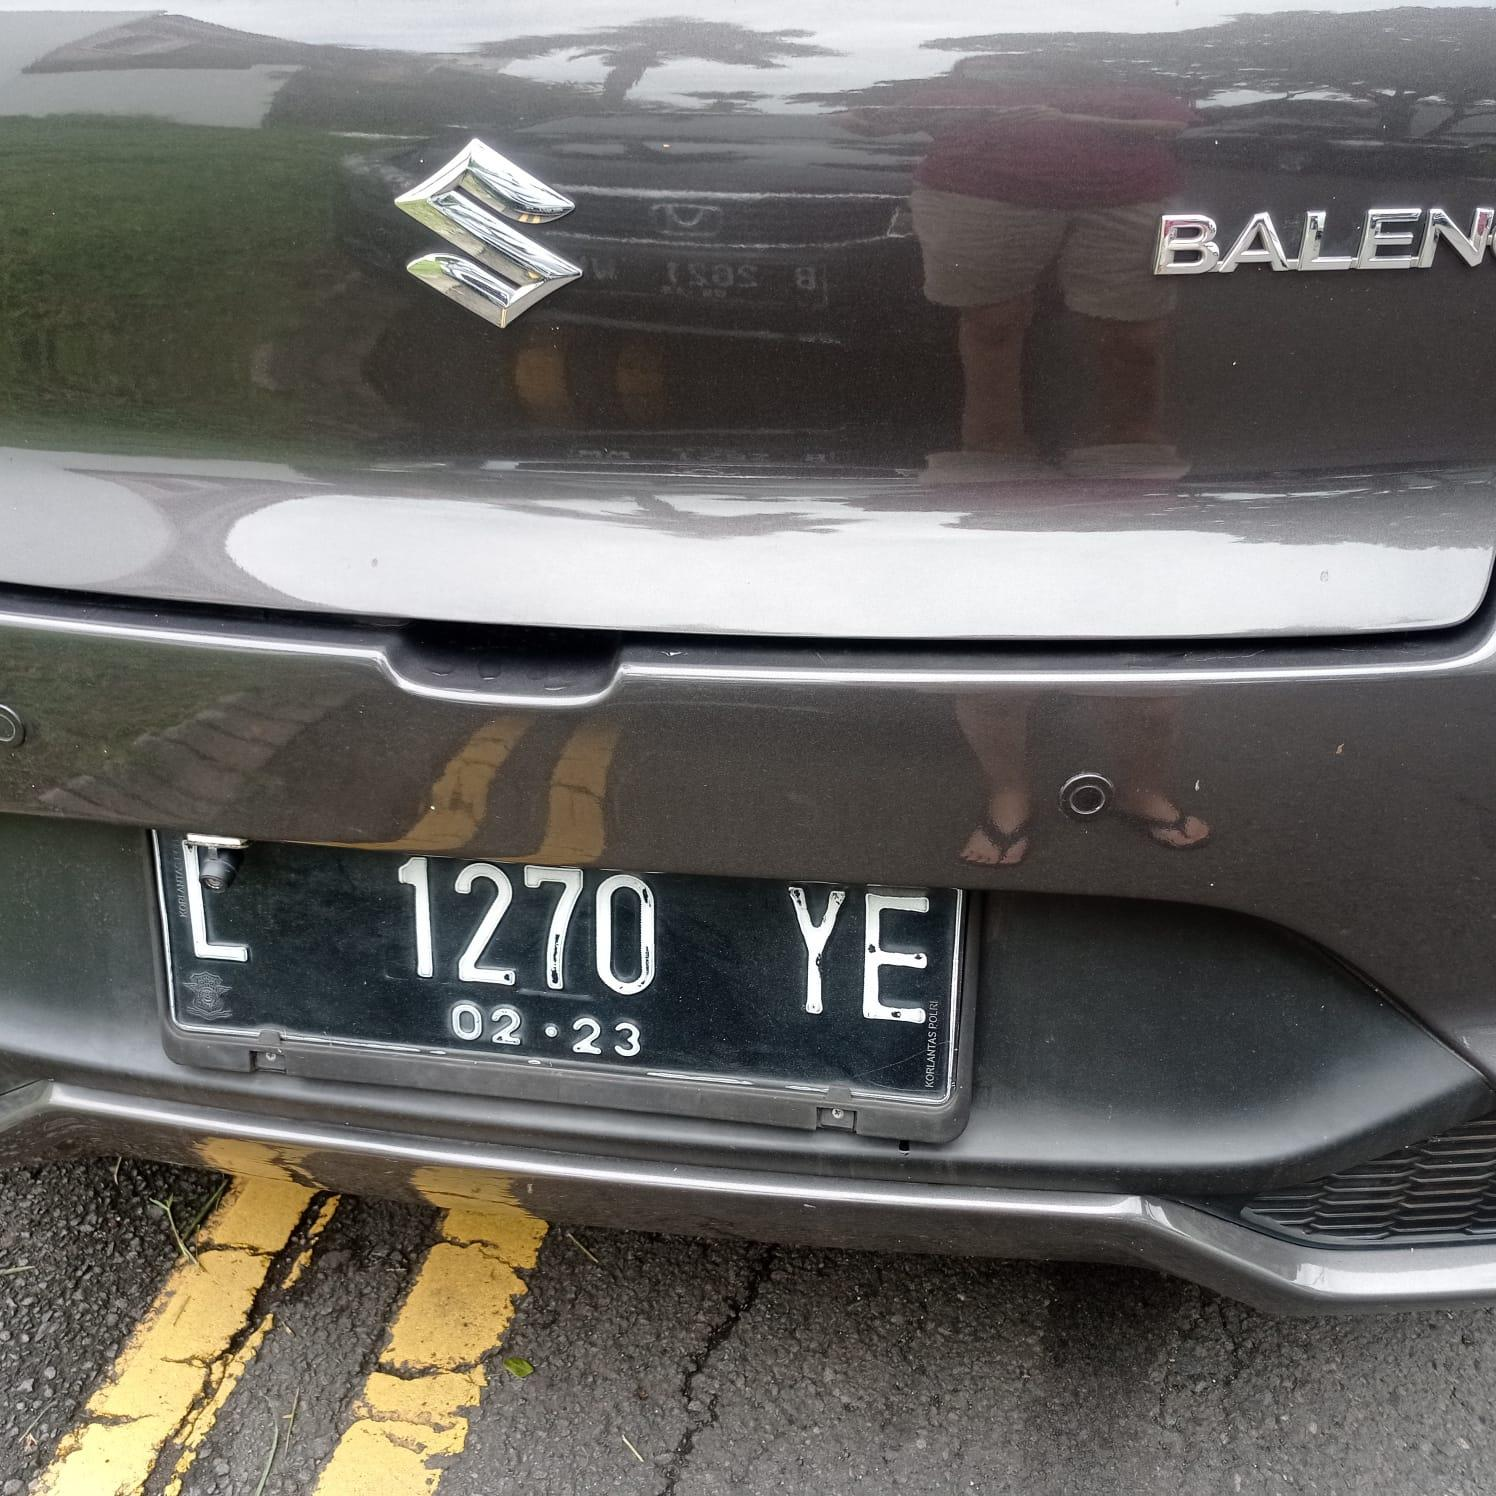plat: (153, 830, 967, 1143)
